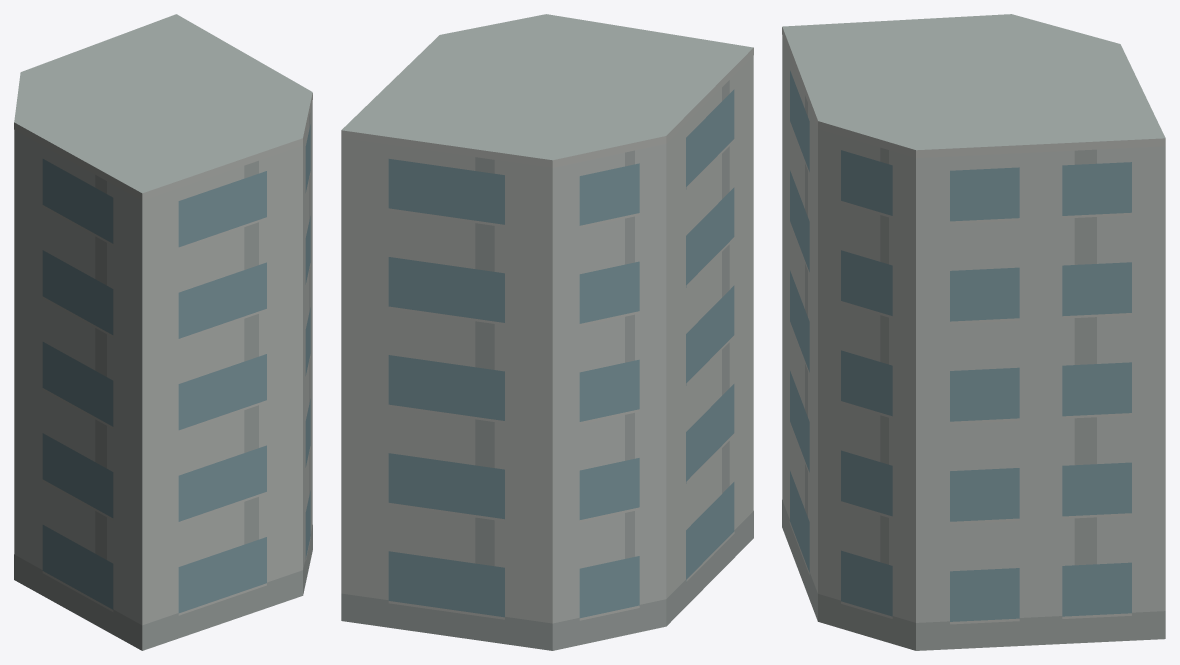
Rendered from residential-d5d2977d-0fc5-430c-85d5-ff5e4e2ca174.glb.
3 renders of one model, left to right at view 1: azimuth 30°, elevation 25°; view 2: azimuth 150°, elevation 25°; view 3: azimuth 270°, elevation 25°, orthographic. The views are drawn at different scales.
Parts seen in each view (by area): view 1: residential-d5d2977d-0fc5-430c-85d5-ff5e4e2ca174.tmp; view 2: residential-d5d2977d-0fc5-430c-85d5-ff5e4e2ca174.tmp; view 3: residential-d5d2977d-0fc5-430c-85d5-ff5e4e2ca174.tmp.
Part boxes in pixels (x1,y1,x2,y2): residential-d5d2977d-0fc5-430c-85d5-ff5e4e2ca174.tmp: [14, 14, 312, 650]; residential-d5d2977d-0fc5-430c-85d5-ff5e4e2ca174.tmp: [341, 14, 753, 650]; residential-d5d2977d-0fc5-430c-85d5-ff5e4e2ca174.tmp: [782, 14, 1165, 650].
Bounding box in the file's own units: 8.9 × 15.25 × 10.6.
